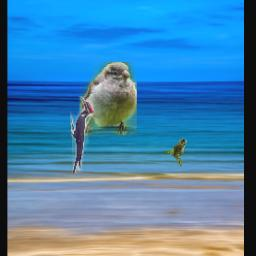Sparrow: (79, 63, 137, 136), (163, 139, 187, 167)
Woodpecker: (71, 97, 94, 174)
